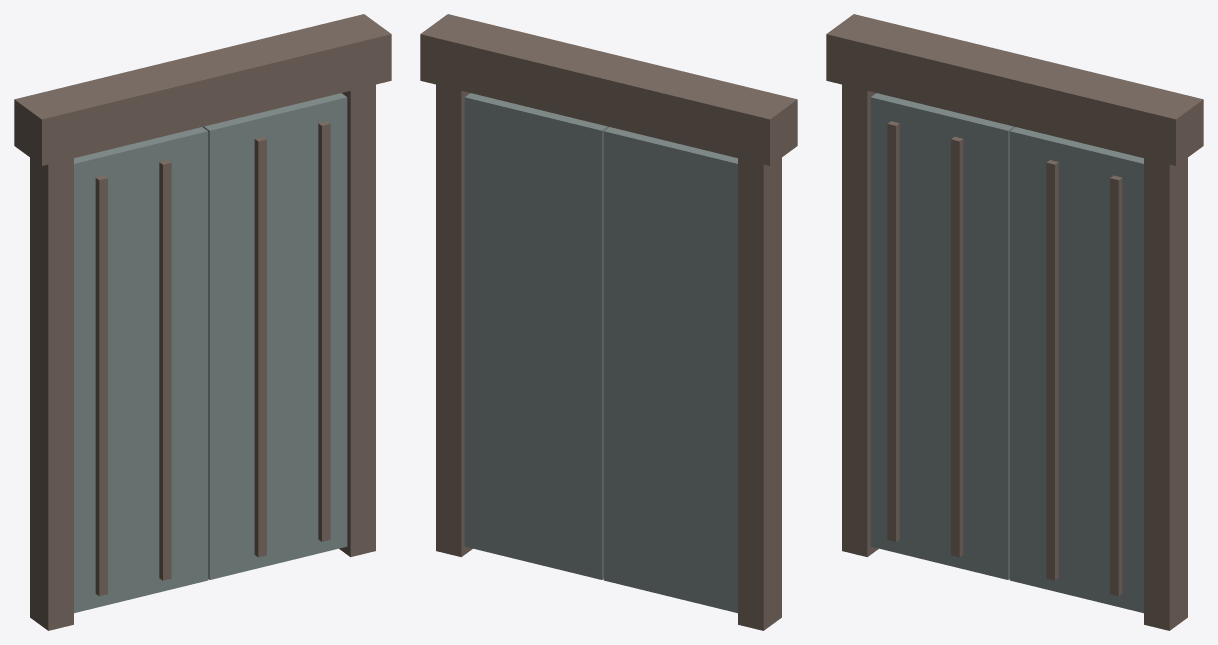
The model's file is porta_laca_jade.glb.
3 views of the same model, side by side, from view 1: azimuth 30°, elevation 25°; view 2: azimuth 150°, elevation 25°; view 3: azimuth 330°, elevation 25° (orthographic).
Visible parts, largest first — view 1: porta_laca_jade_part_004, porta_laca_jade_part_003, porta_laca_jade_part_002, porta_laca_jade_part_000, porta_laca_jade_part_001, porta_laca_jade_part_006, porta_laca_jade_part_005, porta_laca_jade_part_007, porta_laca_jade_part_008; view 2: porta_laca_jade_part_004, porta_laca_jade_part_003, porta_laca_jade_part_002, porta_laca_jade_part_000, porta_laca_jade_part_001; view 3: porta_laca_jade_part_003, porta_laca_jade_part_004, porta_laca_jade_part_002, porta_laca_jade_part_001, porta_laca_jade_part_000, porta_laca_jade_part_007, porta_laca_jade_part_005, porta_laca_jade_part_006, porta_laca_jade_part_008.
Part boxes in pixels (x1,y1,x2,y2): porta_laca_jade_part_004: (203,93,347,579); porta_laca_jade_part_003: (74,127,208,613); porta_laca_jade_part_002: (14,14,391,165); porta_laca_jade_part_000: (30,157,73,630); porta_laca_jade_part_001: (339,84,375,557); porta_laca_jade_part_006: (159,160,171,580); porta_laca_jade_part_005: (95,175,107,596); porta_laca_jade_part_007: (254,136,266,557); porta_laca_jade_part_008: (318,121,330,541); porta_laca_jade_part_004: (464,93,608,579); porta_laca_jade_part_003: (603,127,737,613); porta_laca_jade_part_002: (420,14,797,165); porta_laca_jade_part_000: (738,157,781,630); porta_laca_jade_part_001: (436,84,472,557); porta_laca_jade_part_003: (870,93,1014,579); porta_laca_jade_part_004: (1009,127,1143,613); porta_laca_jade_part_002: (826,14,1203,165); porta_laca_jade_part_001: (1144,157,1187,630); porta_laca_jade_part_000: (842,84,878,557); porta_laca_jade_part_007: (1046,160,1058,580); porta_laca_jade_part_005: (887,121,899,541); porta_laca_jade_part_006: (951,136,963,557); porta_laca_jade_part_008: (1110,175,1122,596).
Bounding box in the file's own units: 2.2 × 3.11 × 0.3.
